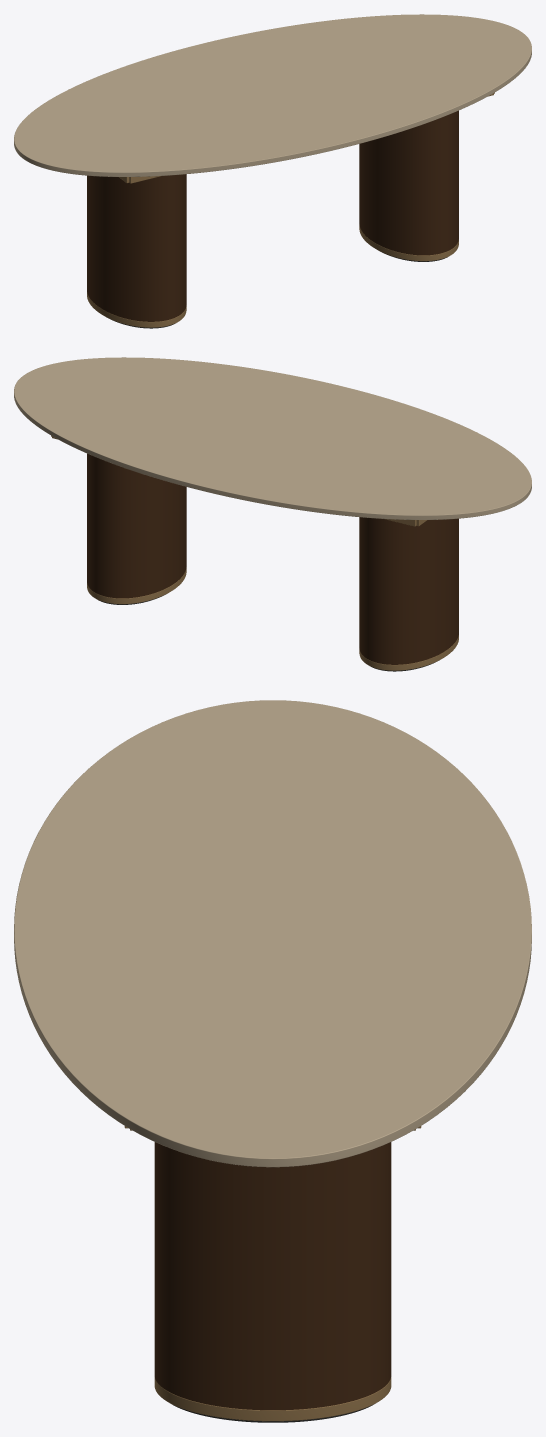
The model's file is dining.glb.
3 renders of one model, top to bottom at view 1: azimuth 30°, elevation 25°; view 2: azimuth 150°, elevation 25°; view 3: azimuth 270°, elevation 25°, orthographic. The views are drawn at different scales.
Parts seen in each view (by area): view 1: Stone top | 20 mm PROVISIONAL | 03_Dining_Table, Base | oval shell dark oak veneer sleeve, Base | oval shell dark oak veneer sleeve.001, Base | bronze toe detail.002, Base | bronze toe detail.003; view 2: Stone top | 20 mm PROVISIONAL | 03_Dining_Table, Base | oval shell dark oak veneer sleeve, Base | oval shell dark oak veneer sleeve.001, Base | bronze toe detail.002, Base | bronze toe detail.003; view 3: Stone top | 20 mm PROVISIONAL | 03_Dining_Table, Base | oval shell dark oak veneer sleeve.001, Base | bronze toe detail.003.
Boxes of the visible parts, <box> form: Stone top | 20 mm PROVISIONAL | 03_Dining_Table: <box>14,14,531,176</box>; Base | oval shell dark oak veneer sleeve: <box>87,174,186,321</box>; Base | oval shell dark oak veneer sleeve.001: <box>359,110,458,255</box>; Base | bronze toe detail.002: <box>87,292,186,327</box>; Base | bronze toe detail.003: <box>359,224,458,261</box>; Stone top | 20 mm PROVISIONAL | 03_Dining_Table: <box>14,357,531,519</box>; Base | oval shell dark oak veneer sleeve: <box>359,517,458,664</box>; Base | oval shell dark oak veneer sleeve.001: <box>87,453,186,598</box>; Base | bronze toe detail.002: <box>359,635,458,670</box>; Base | bronze toe detail.003: <box>87,567,186,604</box>; Stone top | 20 mm PROVISIONAL | 03_Dining_Table: <box>14,700,531,1167</box>; Base | oval shell dark oak veneer sleeve.001: <box>154,1142,391,1410</box>; Base | bronze toe detail.003: <box>154,1377,391,1421</box>.
Bounding box in the file's own units: 2.2 × 0.75 × 1.05.
